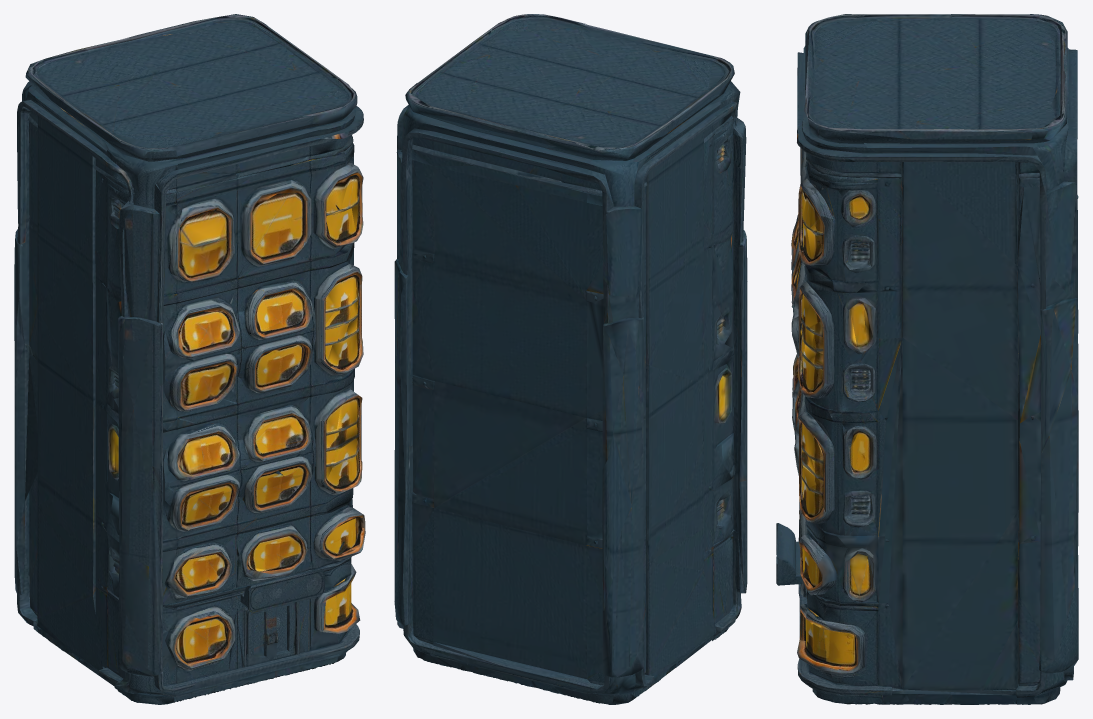
The model's file is mx_bld_capsule_hotel.glb.
The picture shows the model from 3 angles, left to right: view 1: azimuth 30°, elevation 25°; view 2: azimuth 150°, elevation 25°; view 3: azimuth 270°, elevation 25°; orthographic projection. The views are drawn at different scales.
Bounding box in the file's own units: 0.8804 × 1.9 × 0.901.
Materials: 1 (1 with a texture image).
